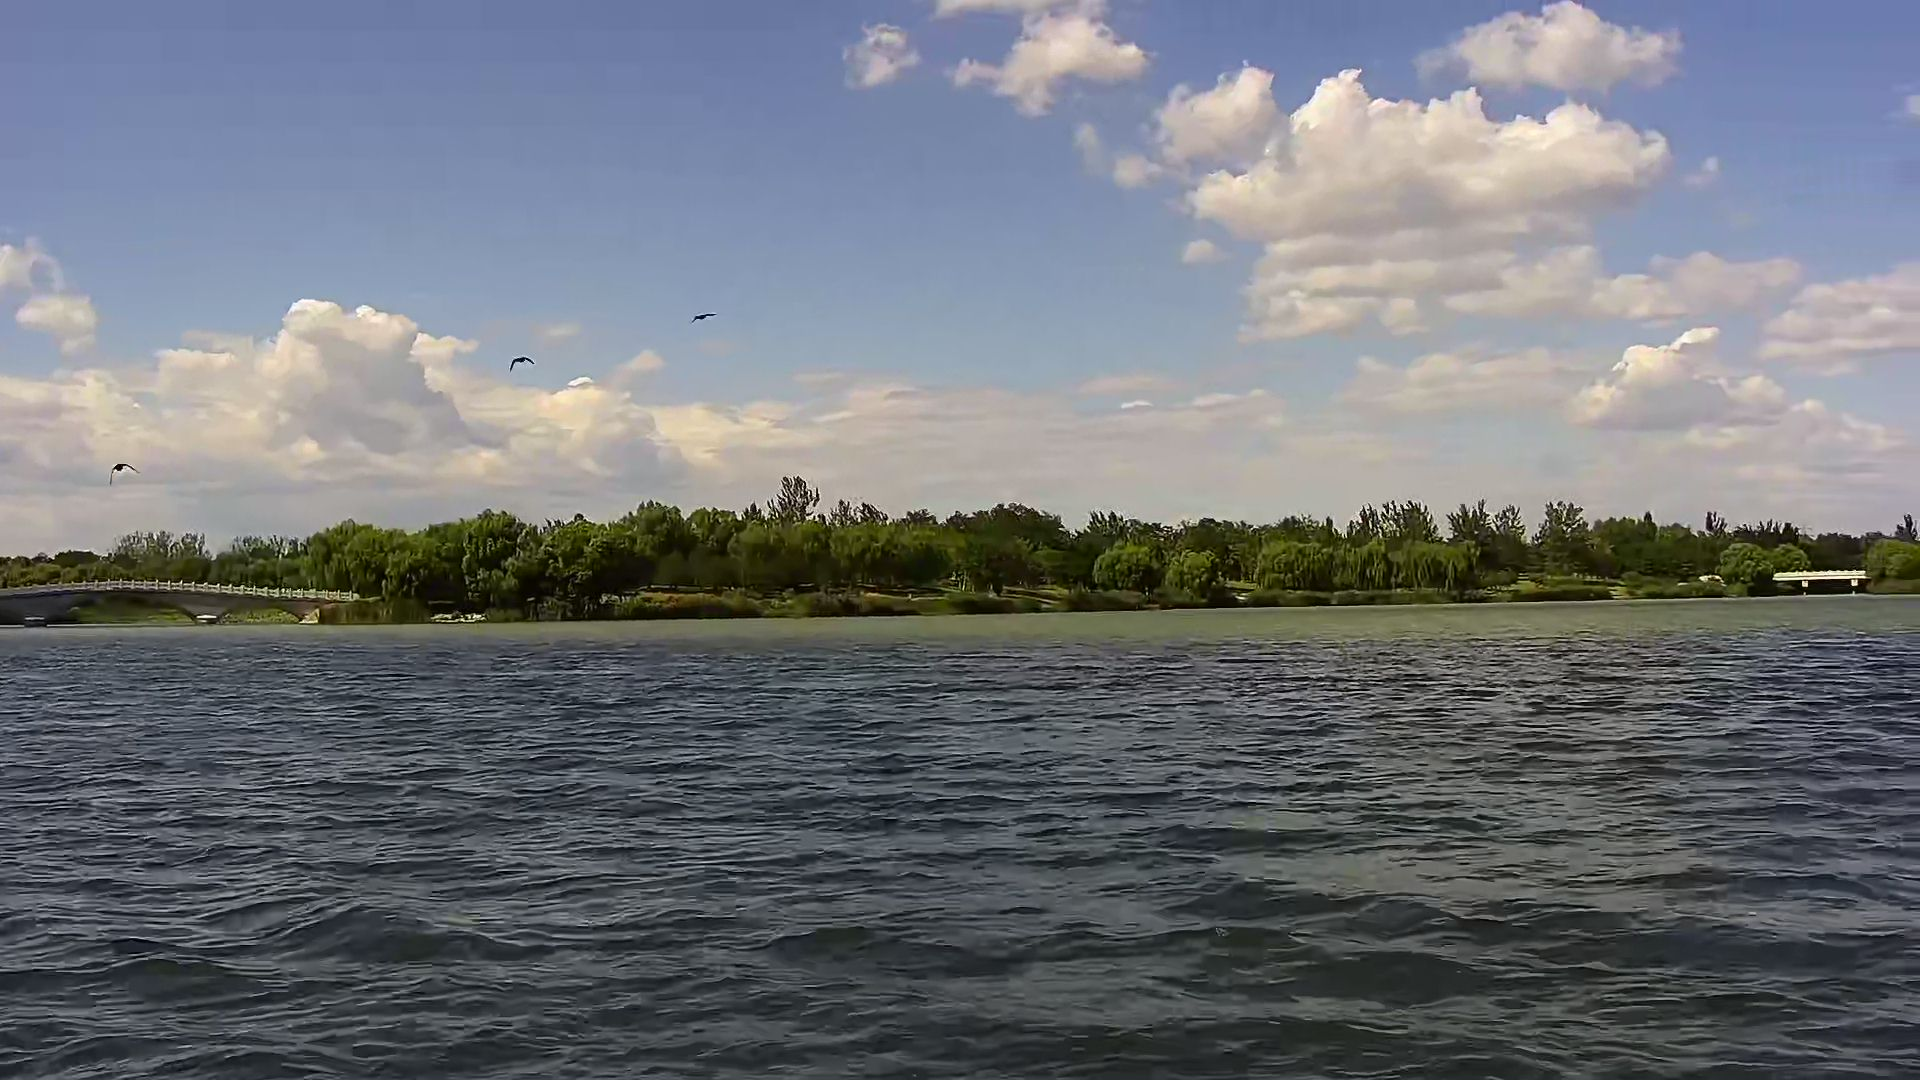bridge: (1, 580, 361, 630), (1772, 560, 1869, 603)
